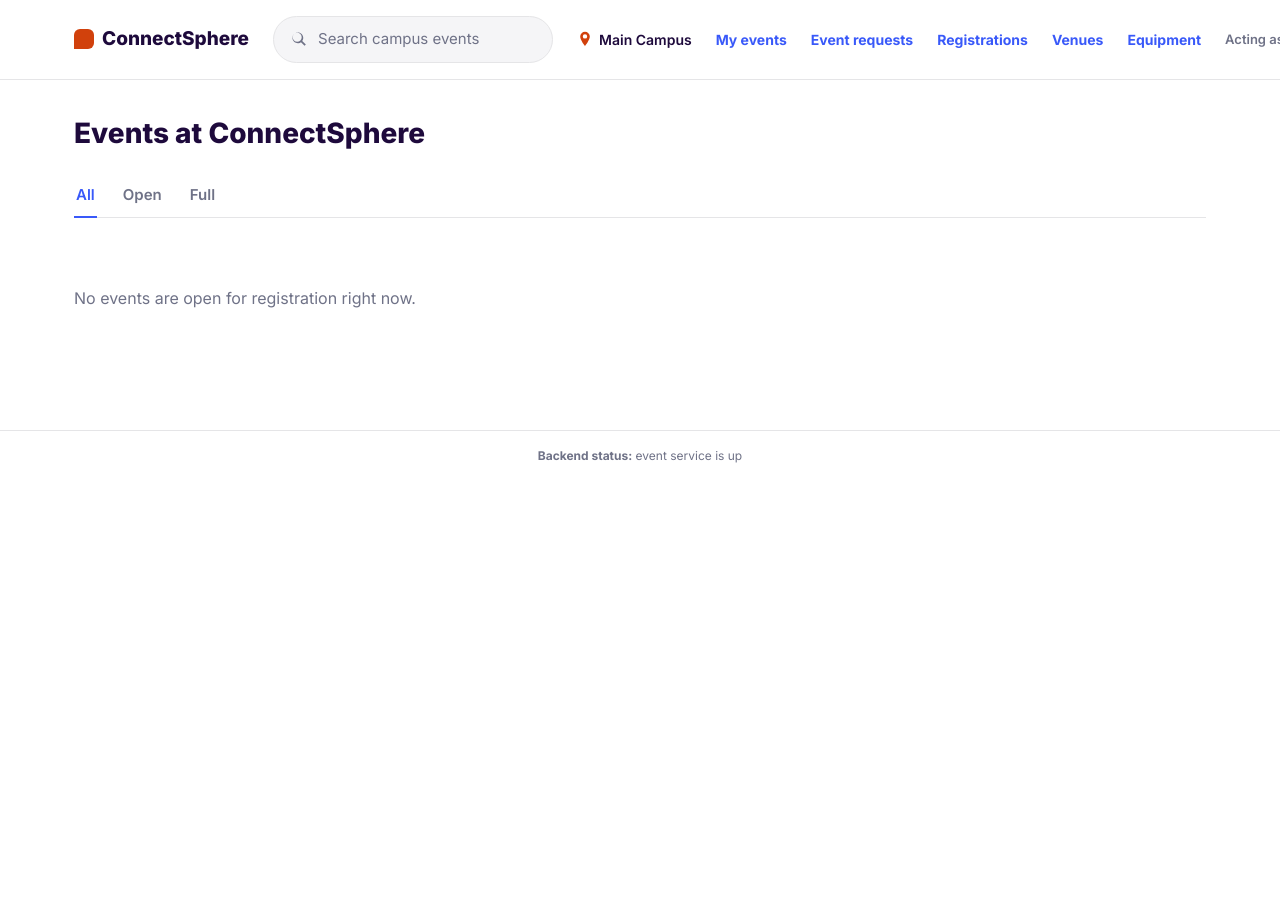
Test: several venues for one event (US24, TC-US24-25) › Venue staff set an approved venue's preparation status from the calendar
Click the button "Venues": [1078, 39] box [1052,29,1104,50]
(page scrolled)
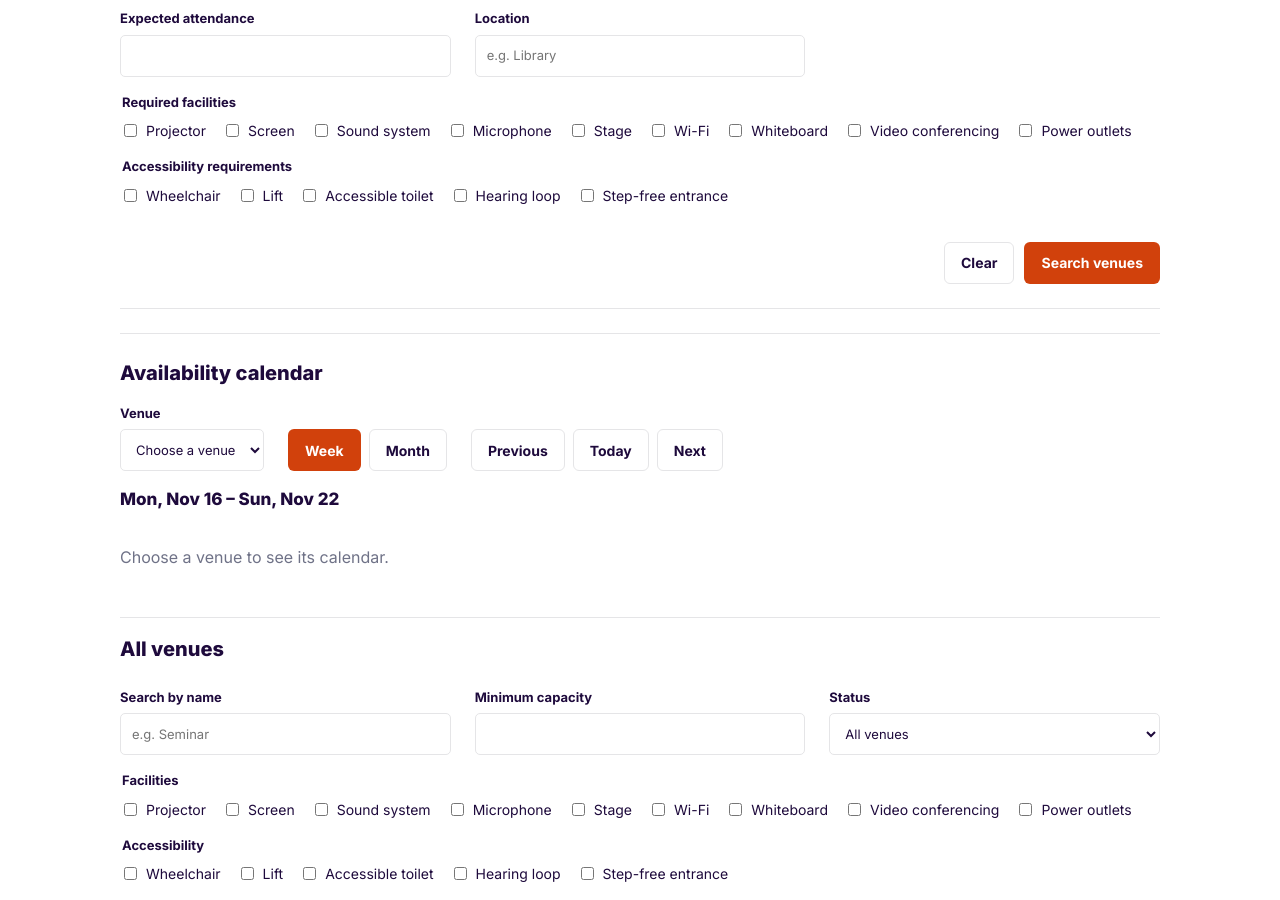
Select "Main Hall" in the dropdown labelled "Venue": [192, 450] box [120,429,264,471]
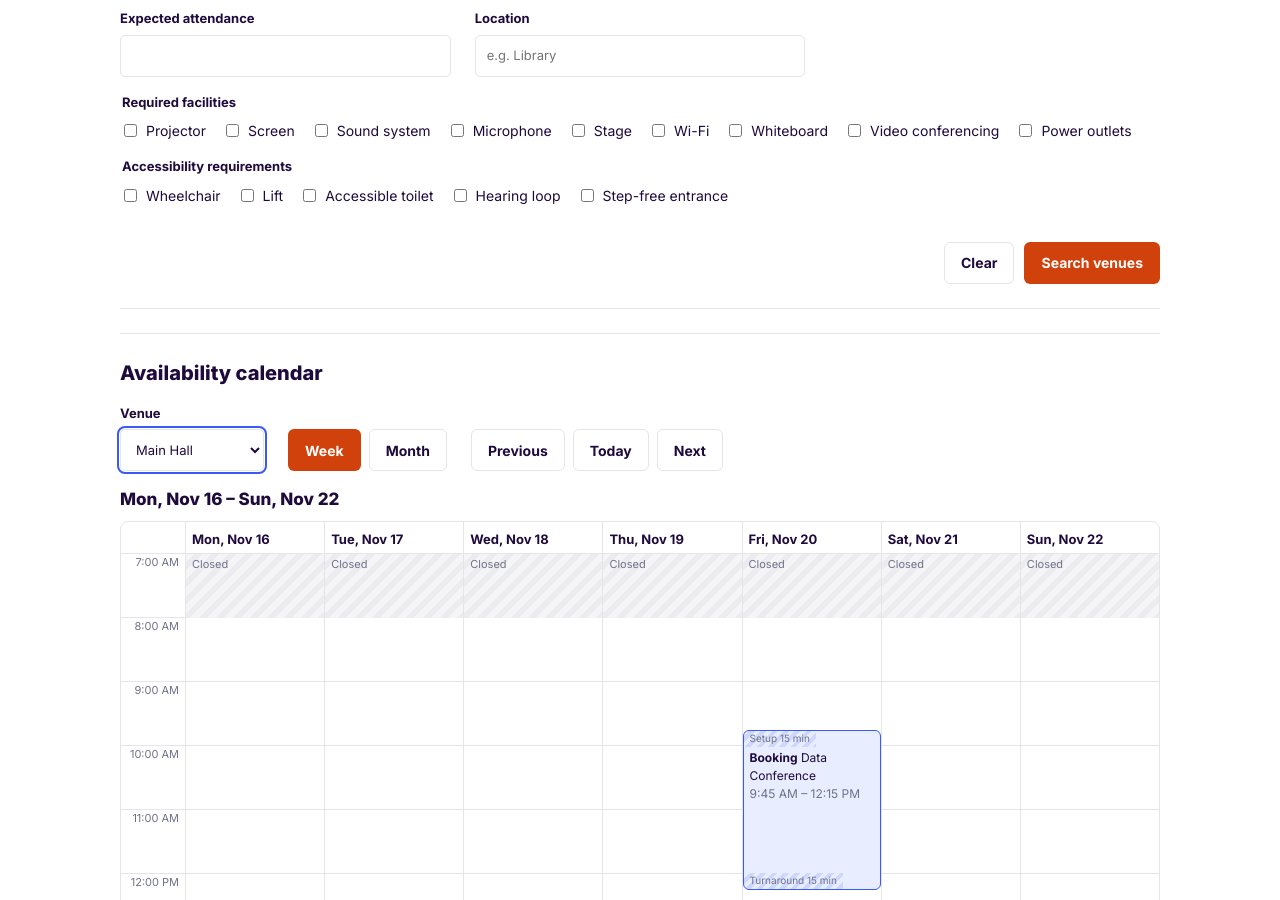
Click the button with aria-label "Booking: Data Conference": [812, 810] box [743,730,881,890]
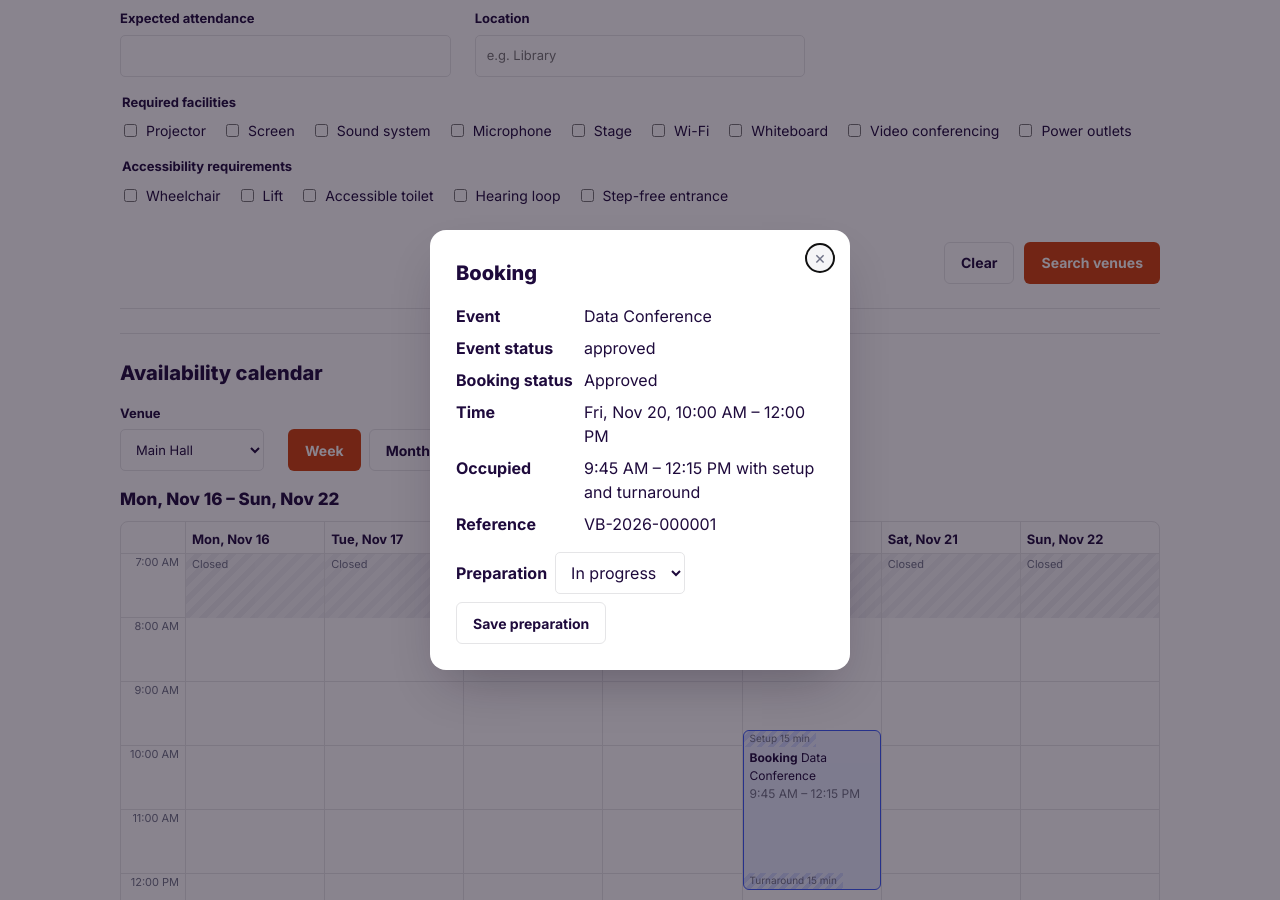
Expected: the dropdown labelled "Preparation" shows "In progress"
Select "Ready" in the dropdown labelled "Preparation": [620, 573] box [555,552,685,594]
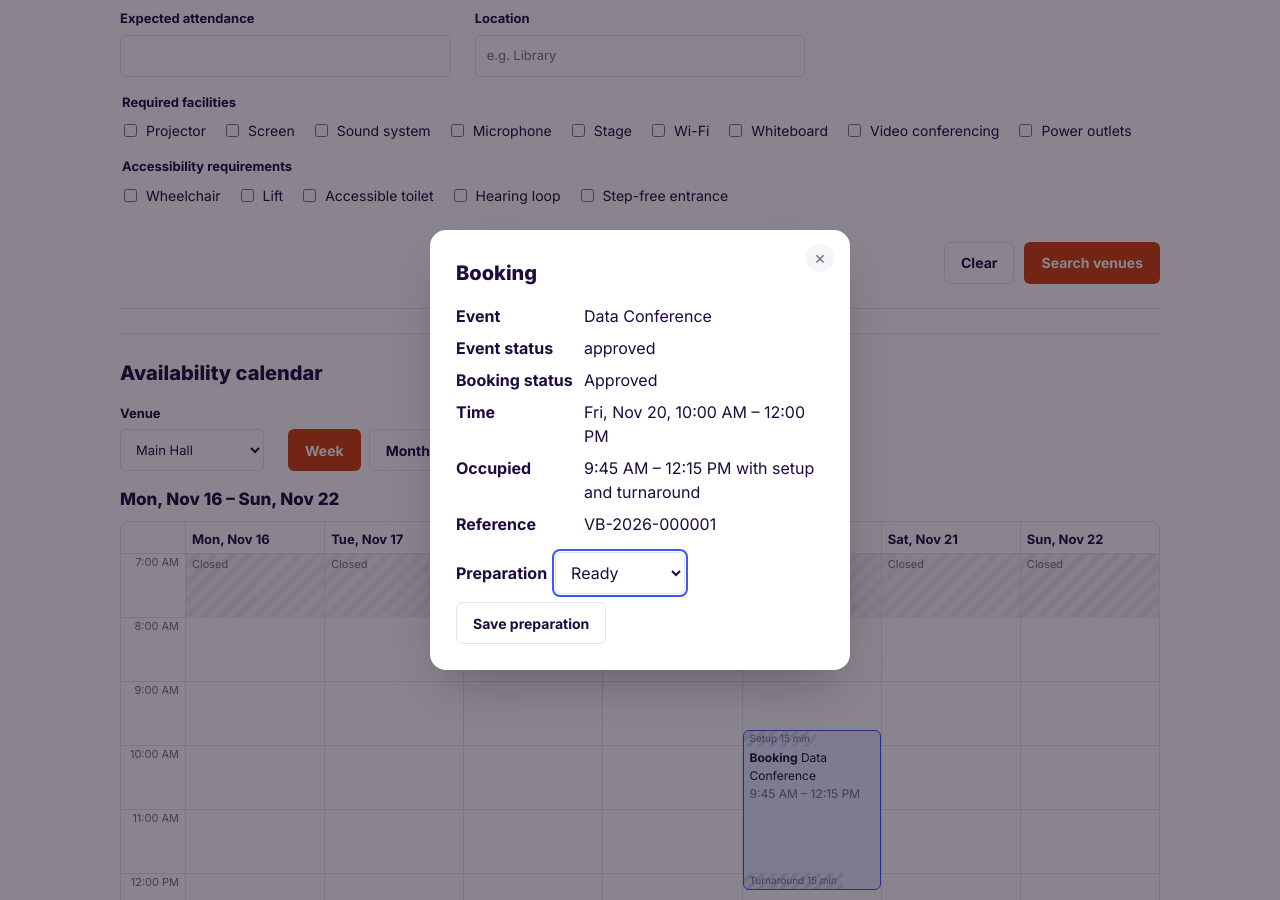
Click the button "Save preparation": [531, 623] box [456,602,606,644]
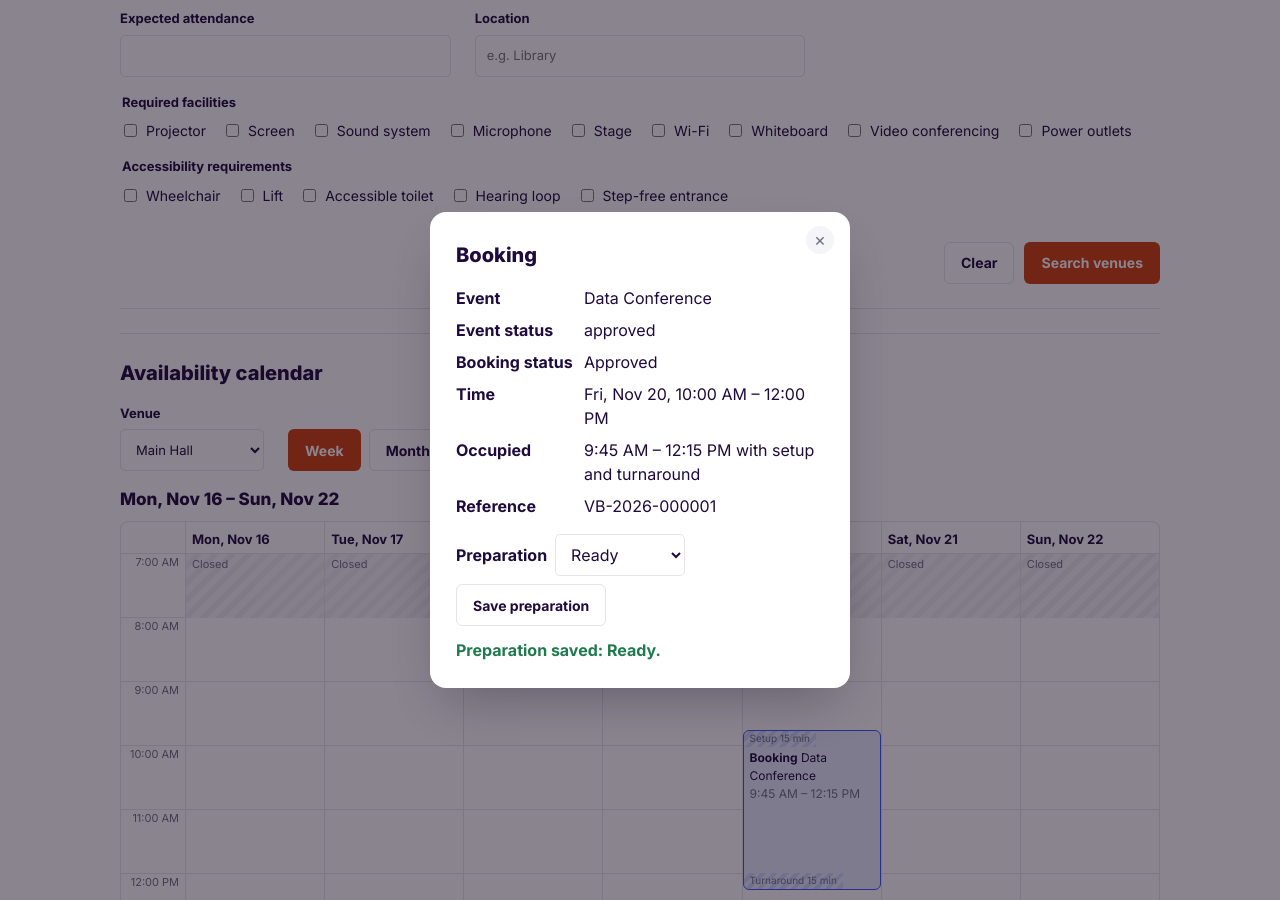
Expected: the message reads "Preparation saved: Ready.", [456,640,661,660]
